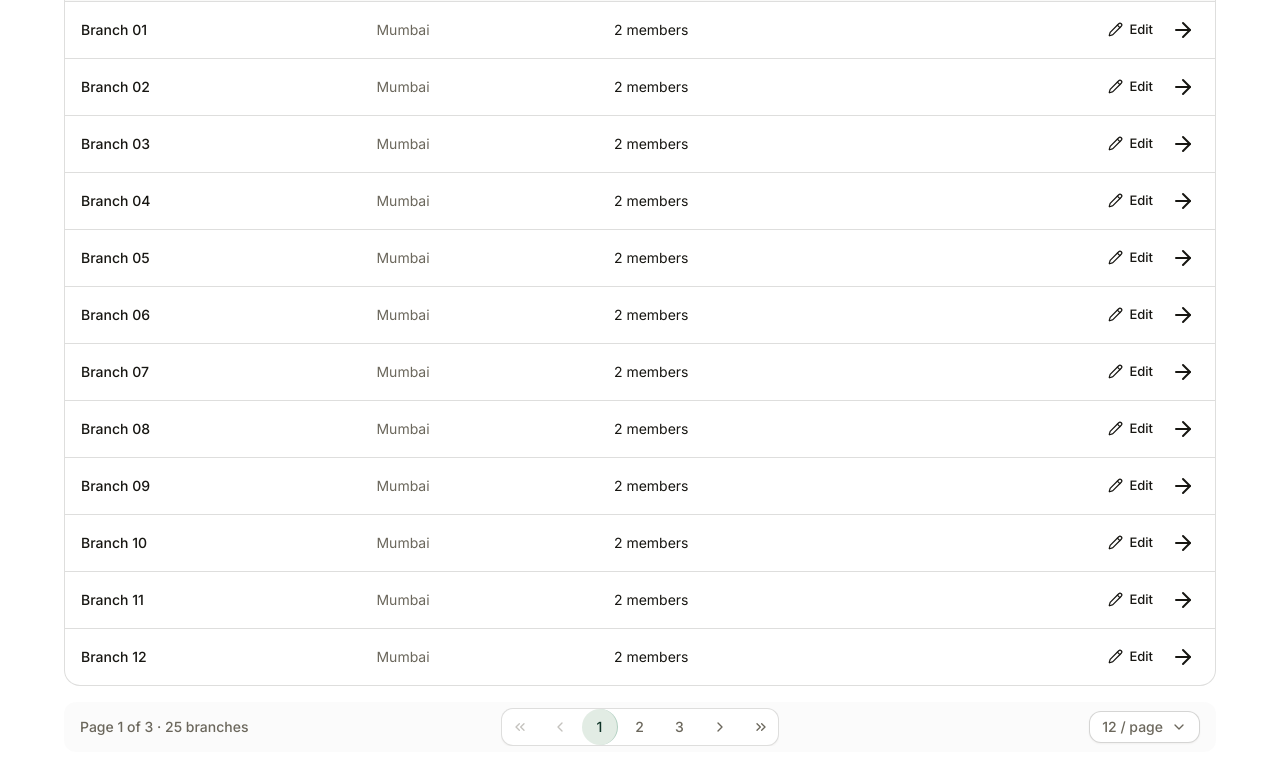
Scenario: DesignerBranches › requests branch pages and searches from the API instead of filtering the first server page
The width and height of the screenshot is (1280, 781).
(page scrolled)
Click the button named "Next page" at (720, 726), box [702,708,738,744]
(page scrolled)
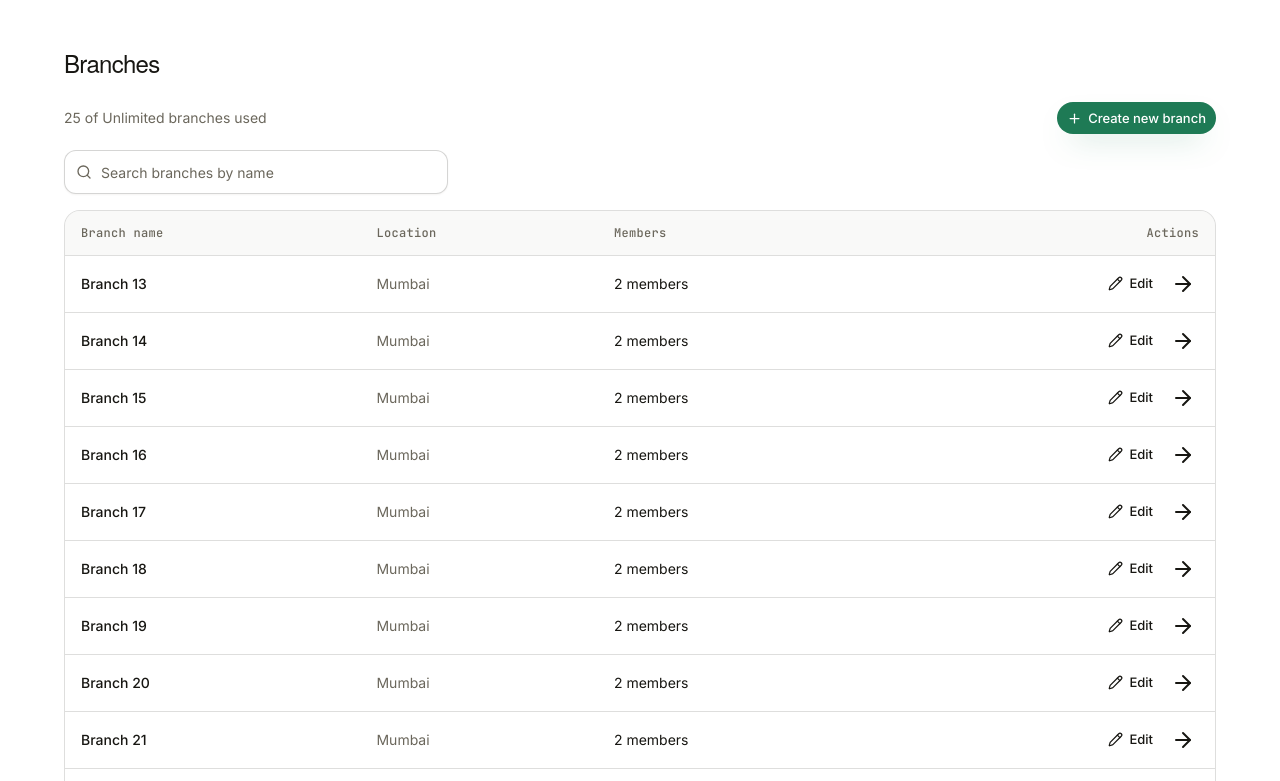
Expected: the link "Branch 13" is shown, [81,274,147,294]
Type "BRANCH 25" into the search field labelled "Search branches by name" at (256, 172), box [64,150,448,194]
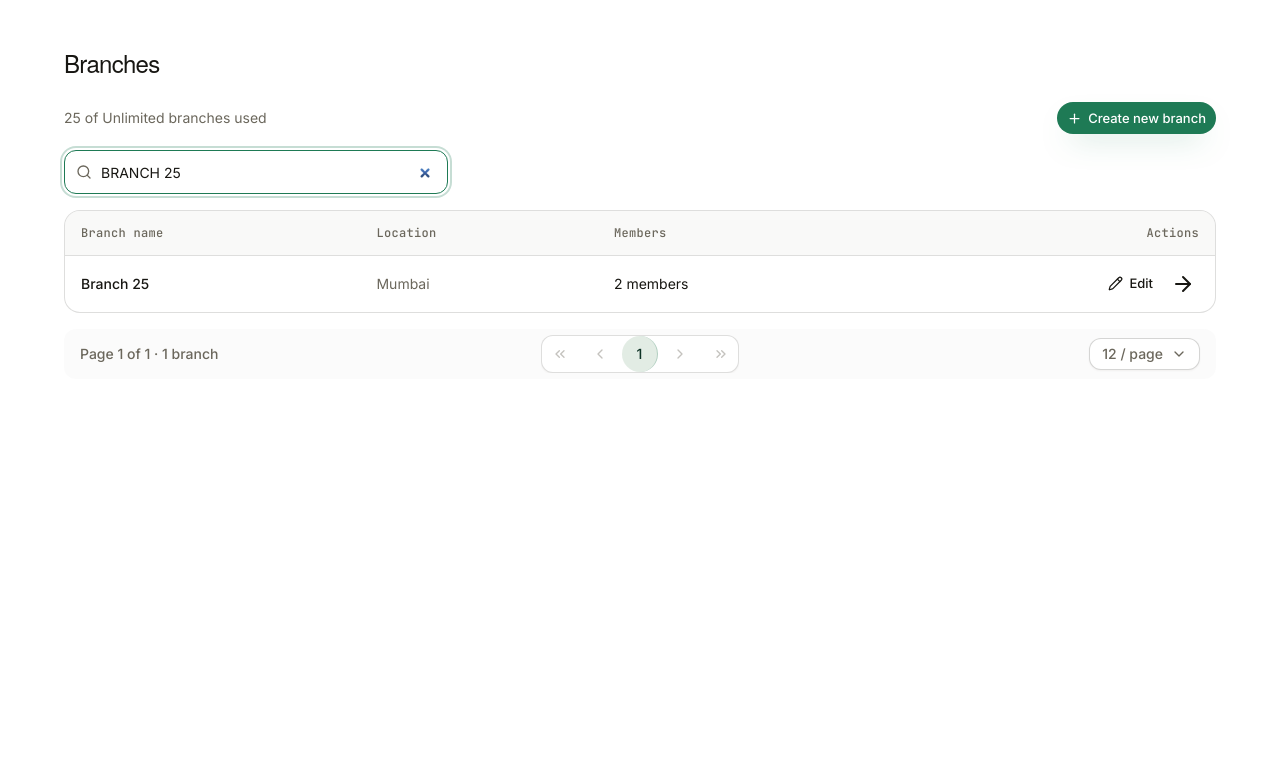
Expected: the link "Branch 25" is shown, [81,274,149,294]
Expected: the text "Page 1 of 1 · 1 branch" is shown, [80,344,218,364]
